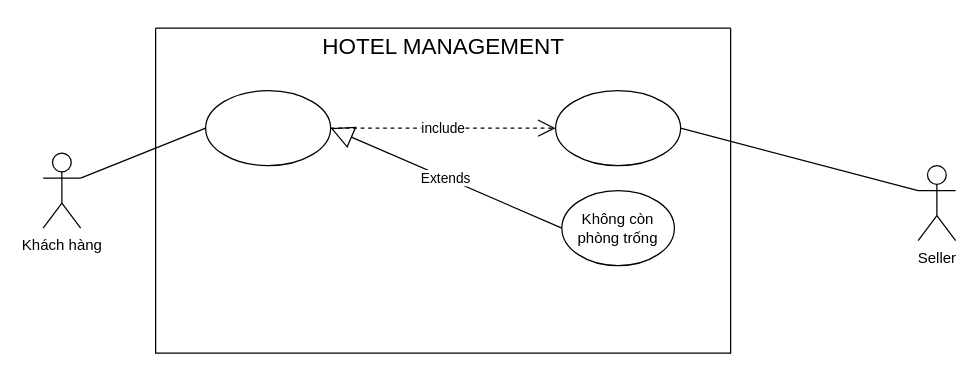
This 978x375 diagram has some shape labels left out. Each missing label, with the centre of its shape:
"Đặt chỗ, hủy đặt chỗ" belongs at (x=267, y=127).
"Đặt chỗ, hủy đặt chỗ (qua điện thoại)" belongs at (x=617, y=127).
